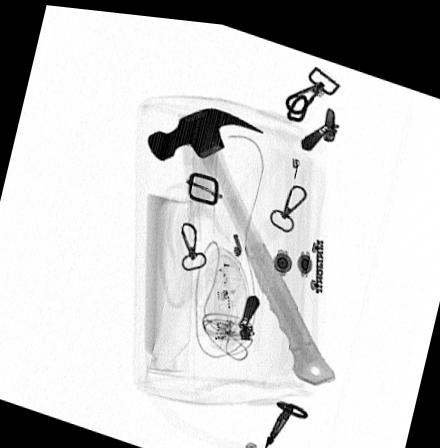Hammer: (147, 101, 336, 378)
